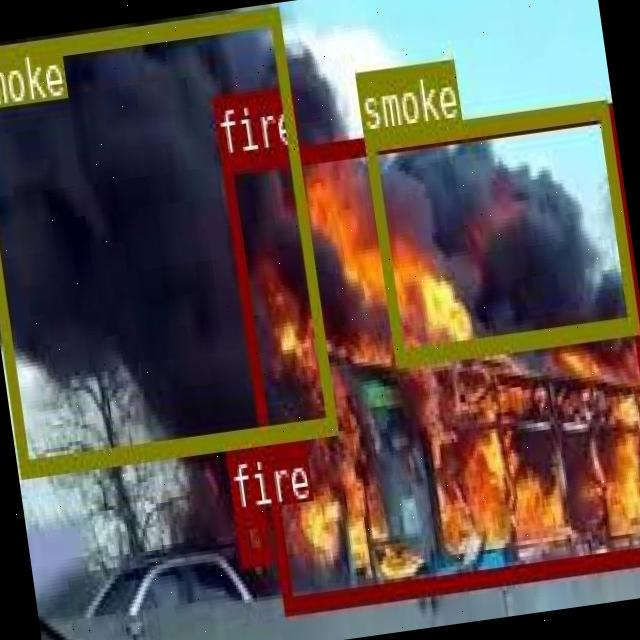fire: (218, 103, 640, 610), (234, 506, 270, 564)
smoke: (0, 5, 336, 476), (362, 97, 636, 362)
